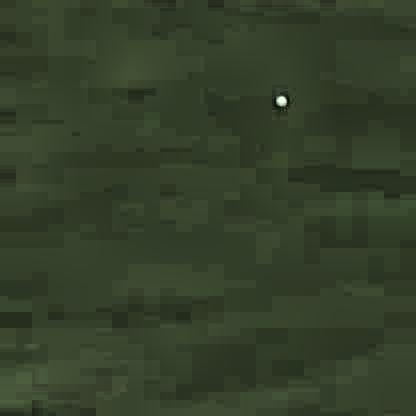golfball: (272, 92, 288, 105)
